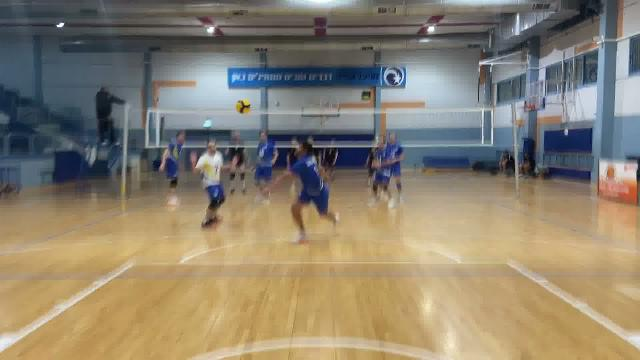ball: (235, 96, 252, 115)
